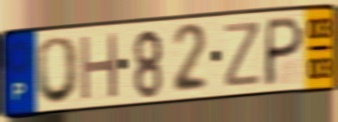2: (170, 21, 210, 99)
8: (131, 25, 164, 100)
H: (78, 30, 120, 104)
O: (34, 35, 82, 107)
P: (261, 13, 306, 88)
Z: (222, 19, 263, 90)
